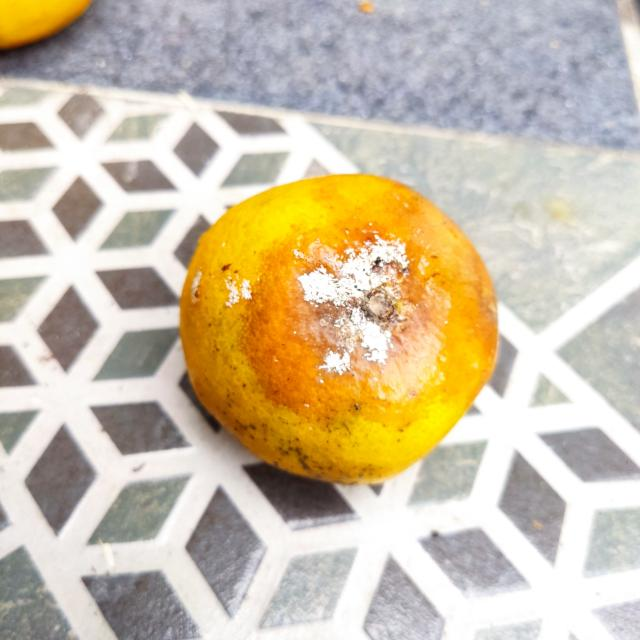orange: (175, 171, 498, 486)
